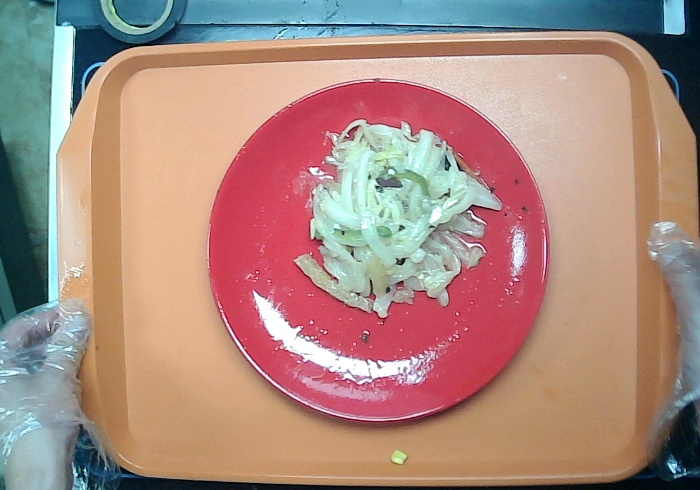HZYJPL-Hong_Se_Yuan_Pan: (207, 77, 554, 424)
